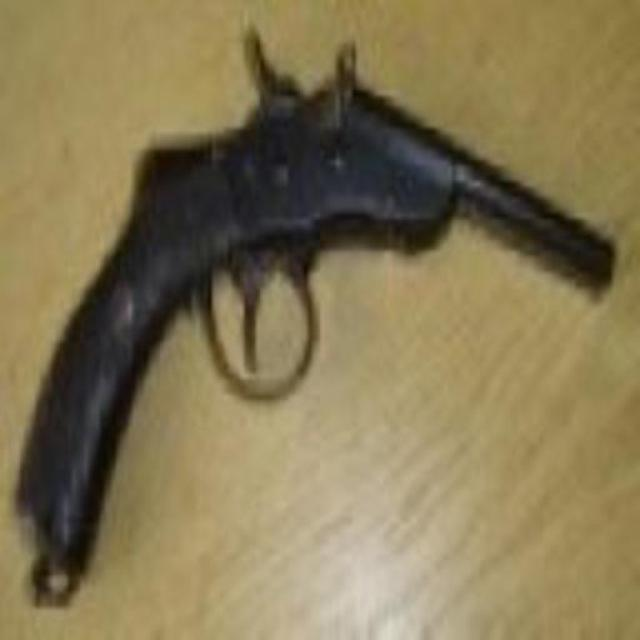pistol: (15, 26, 615, 565)
